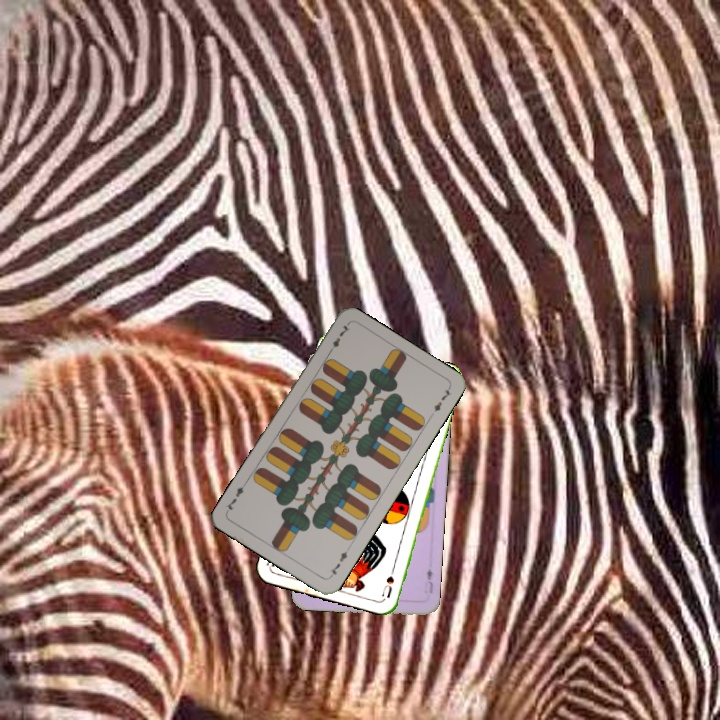E7: (324, 320, 353, 357), (325, 544, 352, 580)
EU: (423, 565, 436, 596)
SU: (378, 559, 398, 600)
